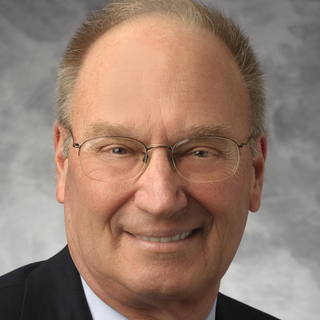eye: (98, 140, 144, 163), (176, 142, 222, 165)
